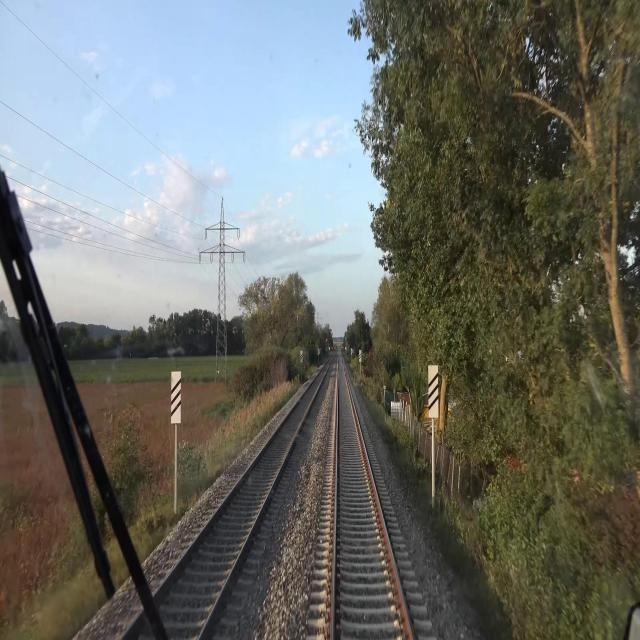rail-track: (169, 366, 326, 639), (336, 360, 410, 639)
